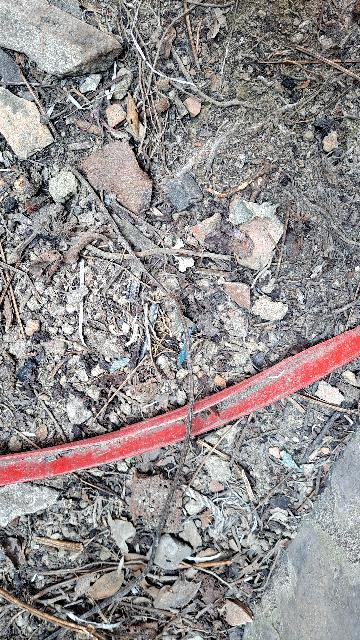hardplastic: (0, 296, 360, 521)
